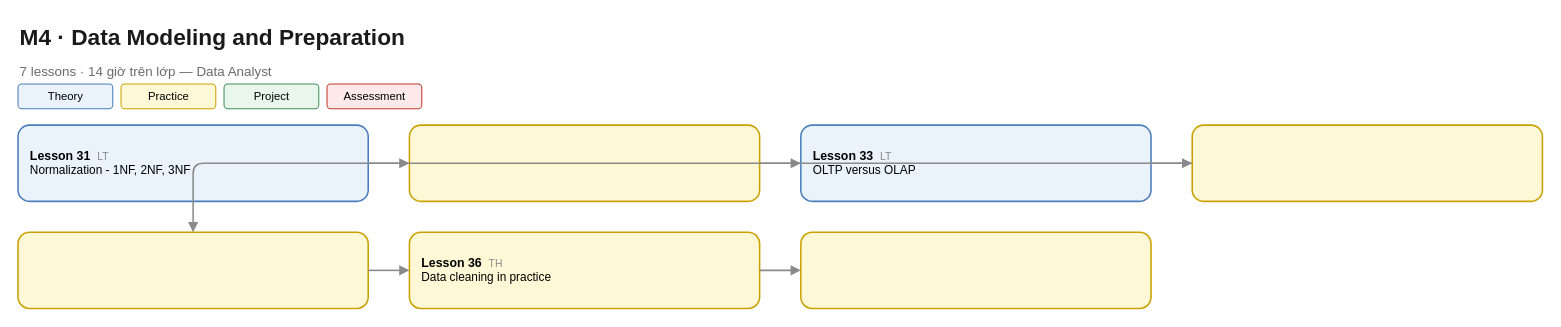
Image size: 1561x327. Some labels were removed from this diagram. The shapes that lost their labels are listed below. From the top down, each one's centre as x and y in pixels, then its label:
the point at 584,163: Lesson 32 TH ERD and reading a schema
the point at 1367,163: Lesson 34 TH Dimensional modeling and the star schema
the point at 193,270: Lesson 35 TH Slowly changing dimensions and the calendar table
the point at 975,270: Lesson 37 TH Reconciliation and the discipline of verification
